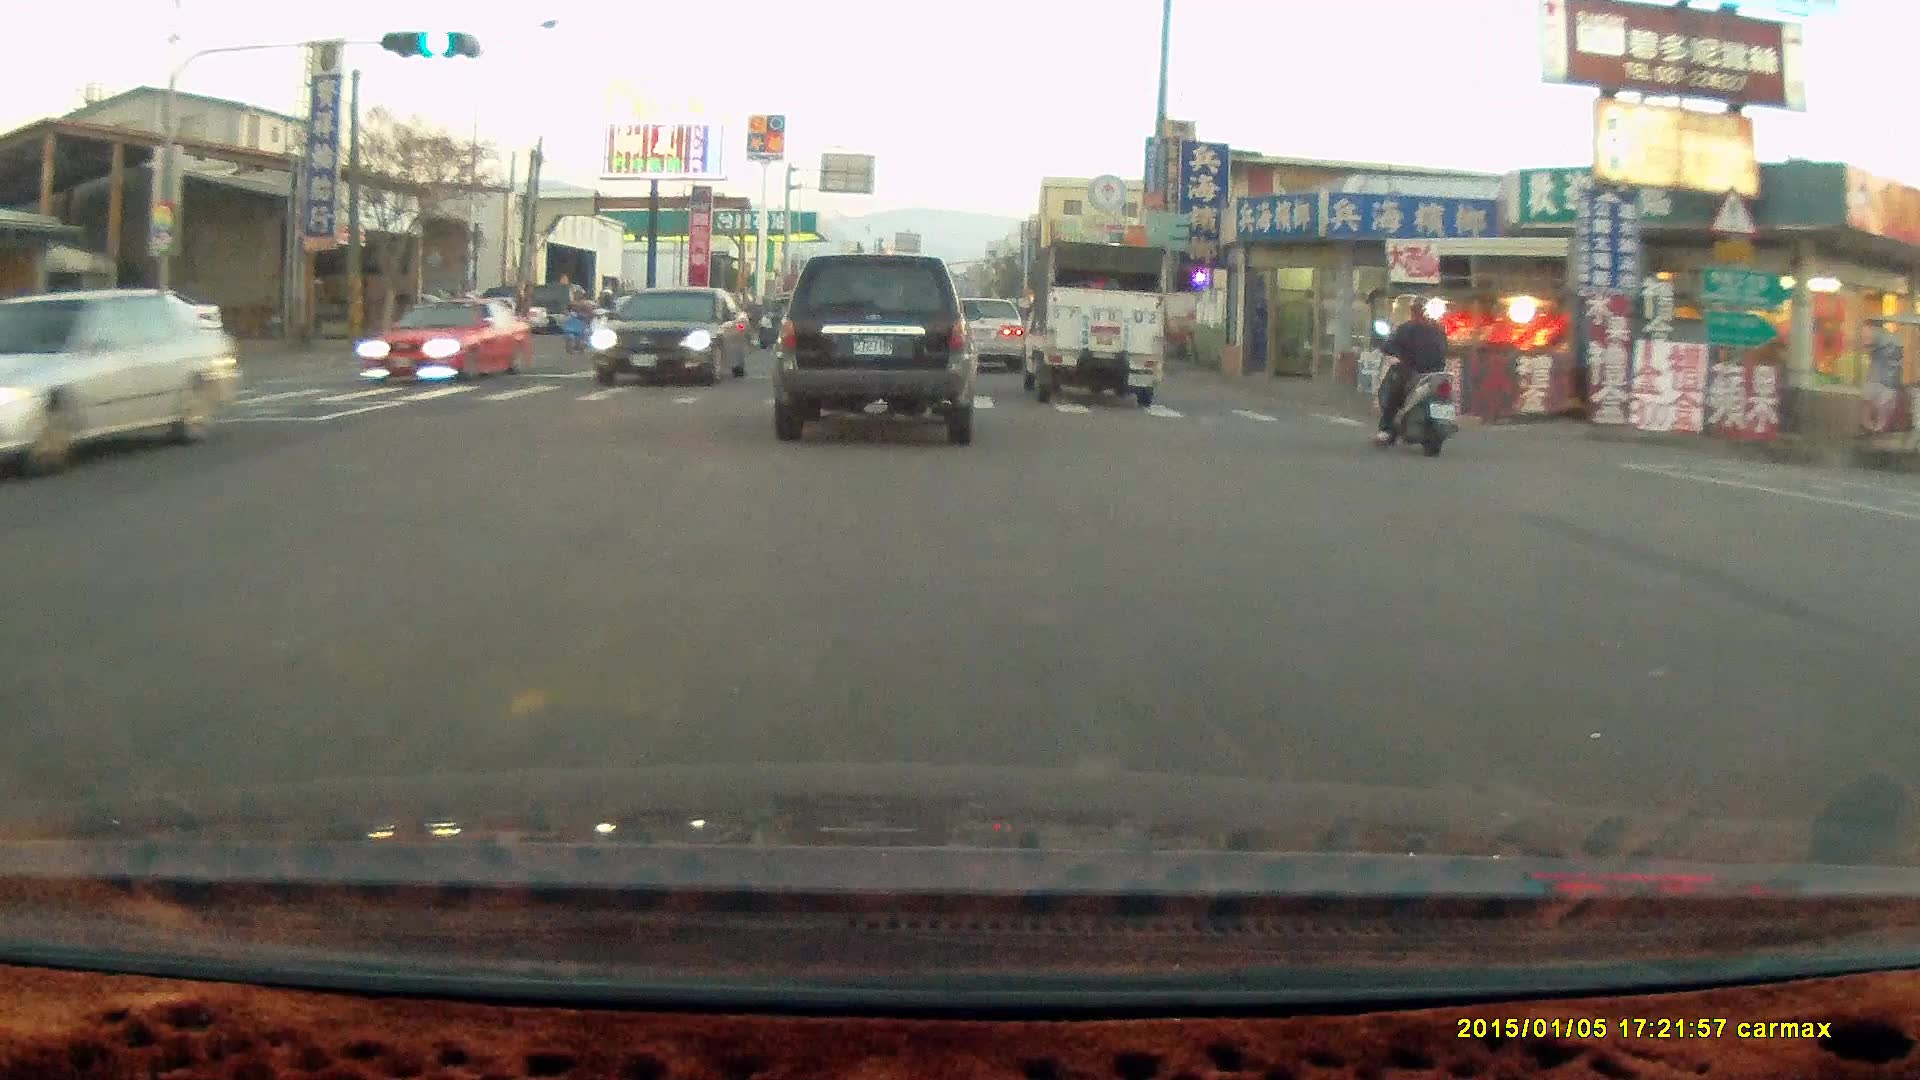rider: (1368, 280, 1457, 445), (556, 286, 594, 348)
vehicle: (1, 287, 243, 475), (769, 252, 981, 445), (1014, 234, 1167, 405), (594, 284, 749, 389), (362, 293, 532, 384), (38, 282, 223, 351), (941, 296, 1029, 375), (940, 292, 1025, 372)
